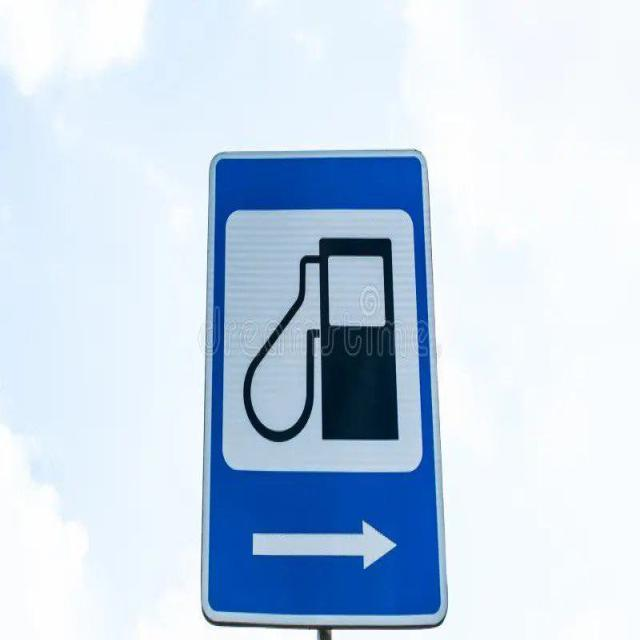petrol pump ahead: (206, 192, 432, 493)
